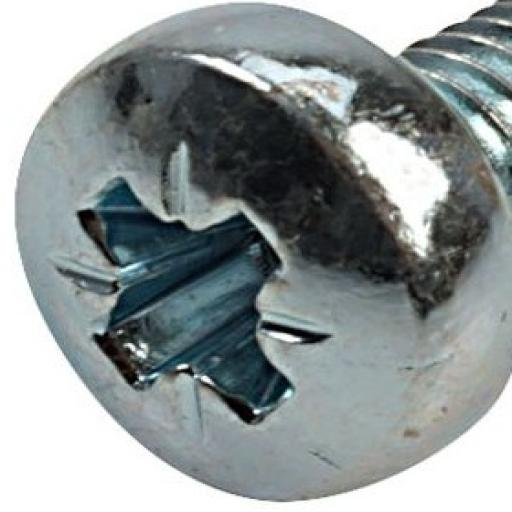Pozidriv: (0, 3, 512, 510)
